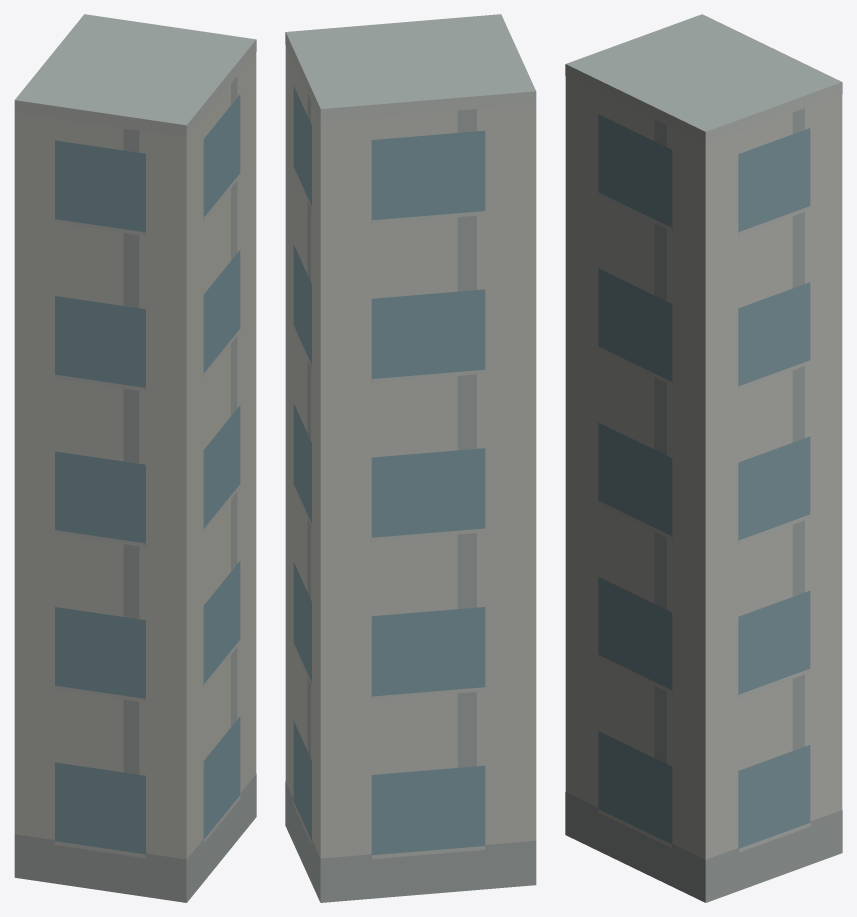
The model's file is survey-upis-32557508.glb.
3 views of the same model, side by side, from view 1: azimuth 30°, elevation 25°; view 2: azimuth 150°, elevation 25°; view 3: azimuth 270°, elevation 25° (orthographic). The views are drawn at different scales.
Parts seen in each view (by area): view 1: survey-upis-32557508.tmp; view 2: survey-upis-32557508.tmp; view 3: survey-upis-32557508.tmp.
Part boxes in pixels (bbox=[...]): survey-upis-32557508.tmp: bbox=[14, 14, 256, 902]; survey-upis-32557508.tmp: bbox=[285, 14, 536, 902]; survey-upis-32557508.tmp: bbox=[565, 14, 842, 902].
Size of the model in its own units: 5.01 by 15.25 by 4.97.
